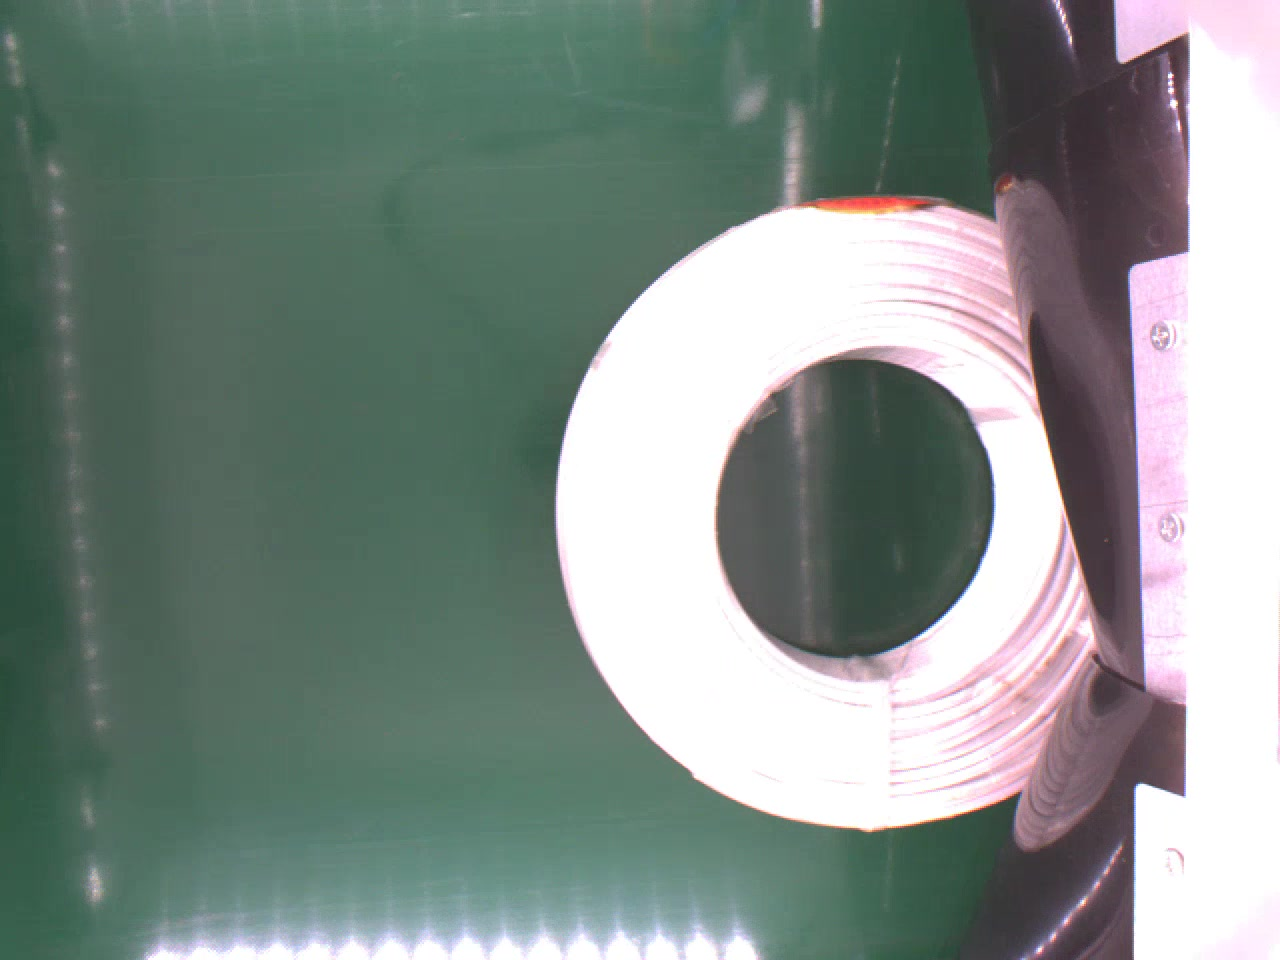white: (541, 190, 1117, 839)
